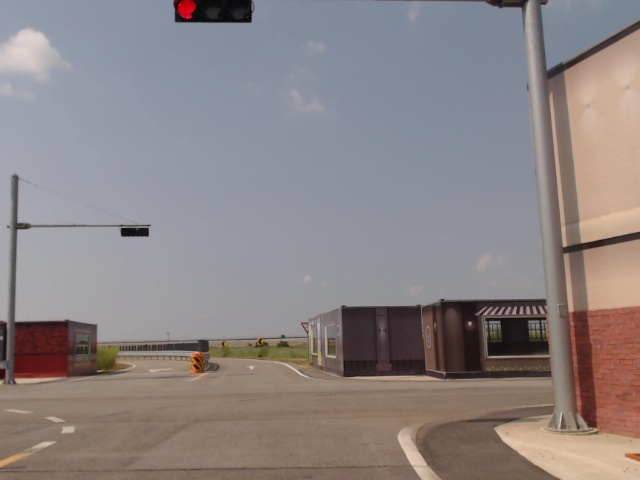red_3: (174, 0, 253, 23)
